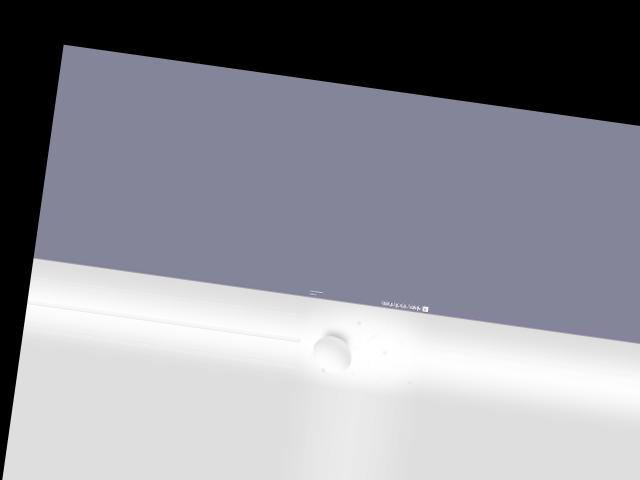egg: (309, 333, 353, 373)
